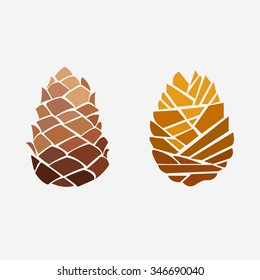Pc: (148, 66, 235, 189), (29, 64, 111, 186)
